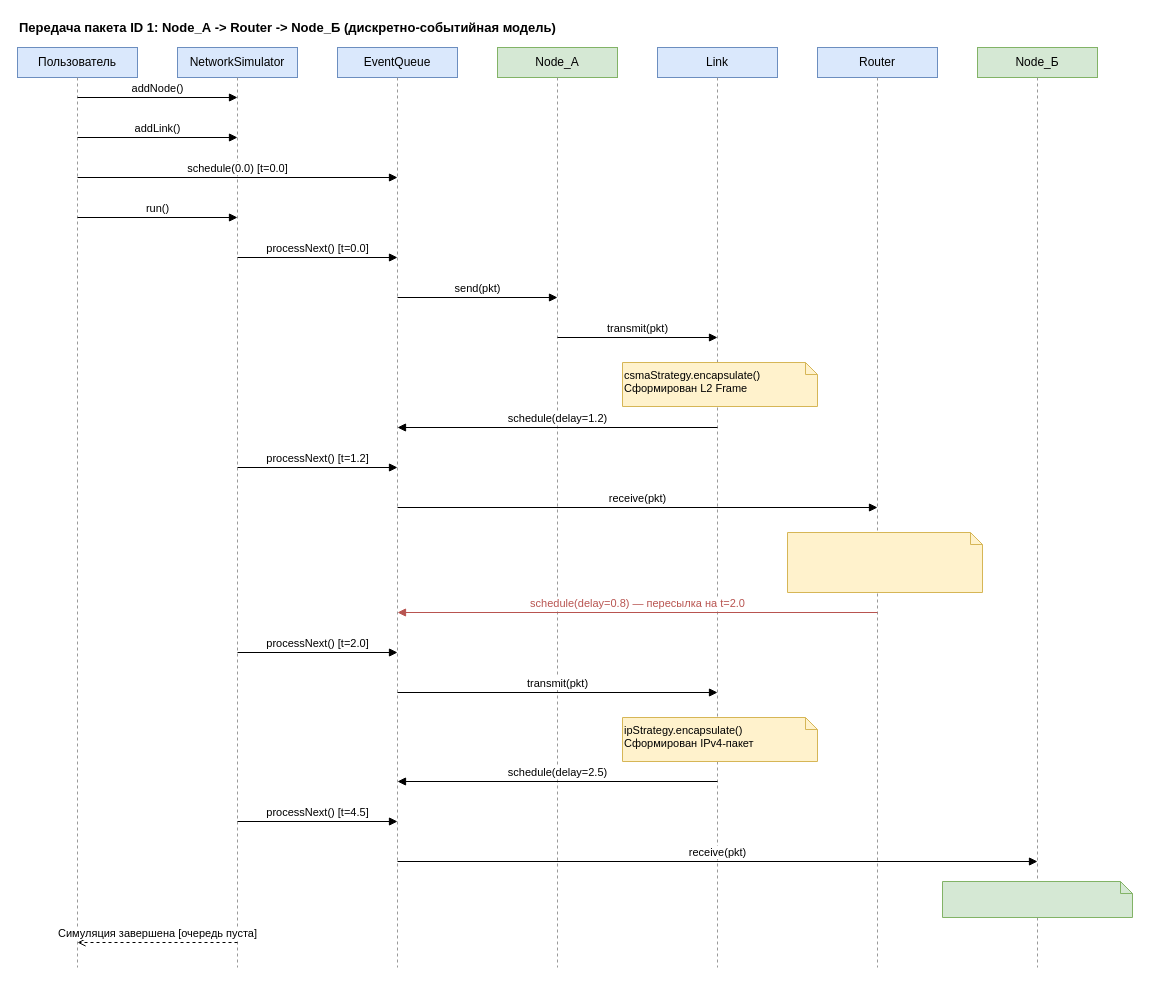
This 1150x986 diagram has some shape labels left out. Each missing label, with the box of its shape:
decrementTTL() = true routingTable.lookup(dstIP) => Линка_Б: (786, 532, 982, 592)
Успешно доставлен pkt ID: 1: (942, 880, 1132, 918)
